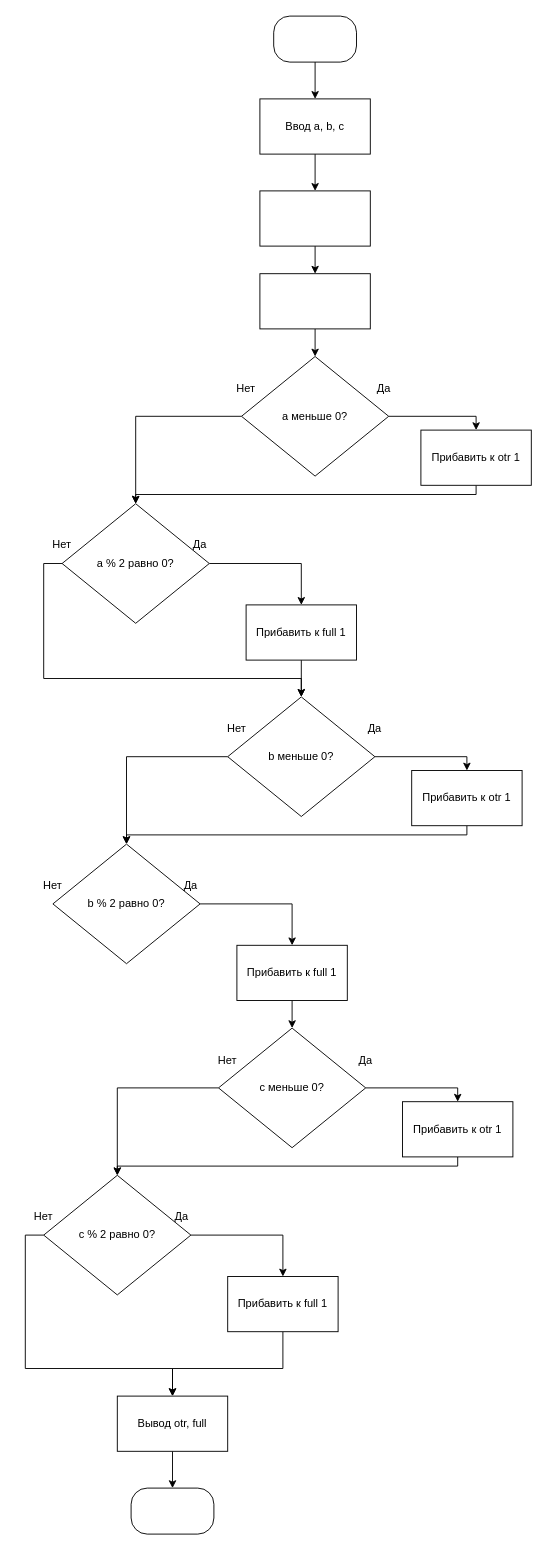
This 547x1550 diagram has some shape labels left out. The shapes that lost their labels are listed below. From the top down, each one's centre as x and y in pixels, then its label:
pixel 314 38: Начало
pixel 314 218: Определение otr и full
pixel 314 301: Переменные a,b,c перевод в Float
pixel 172 1510: Конец
